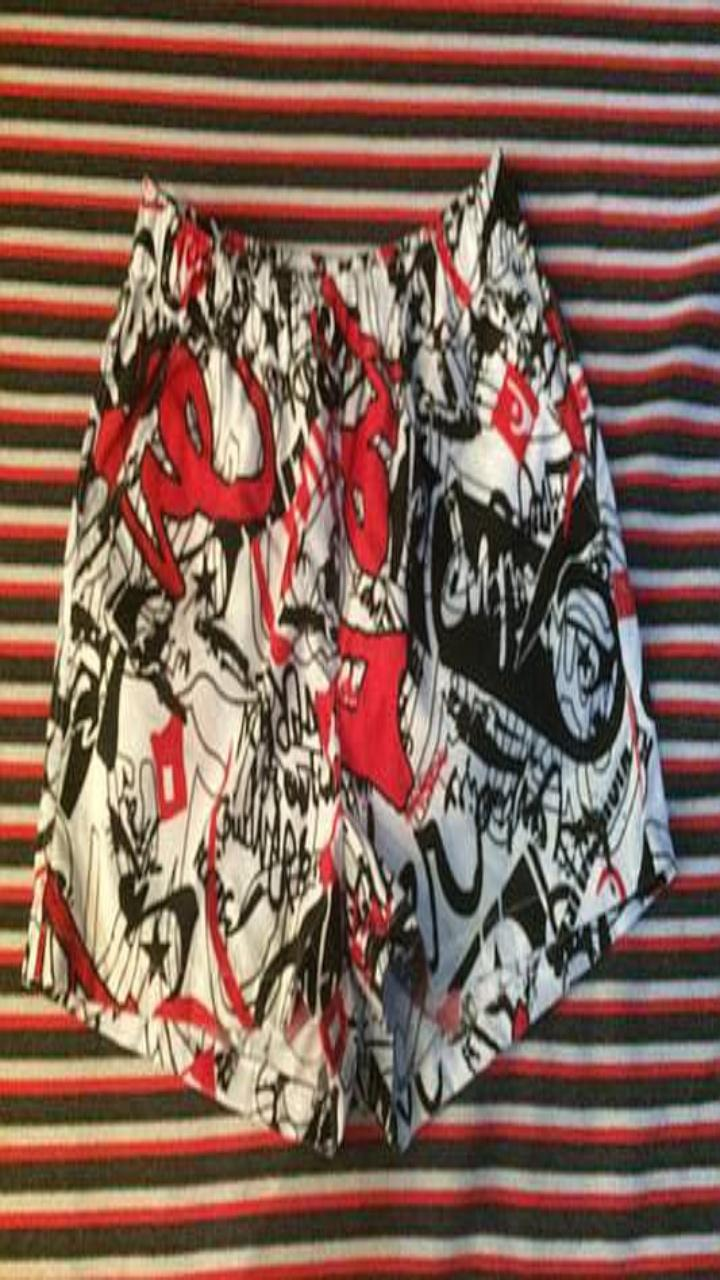Shorts: (23, 148, 675, 1152)
